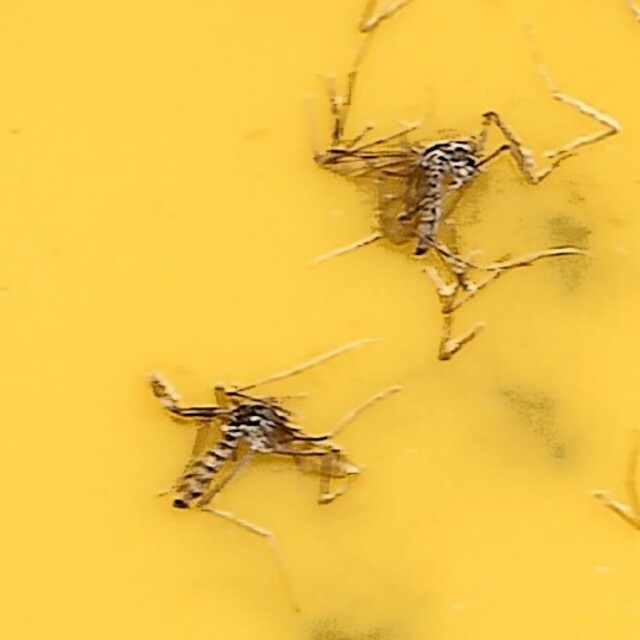Nematocera: (140, 379, 351, 516), (314, 124, 500, 266)
